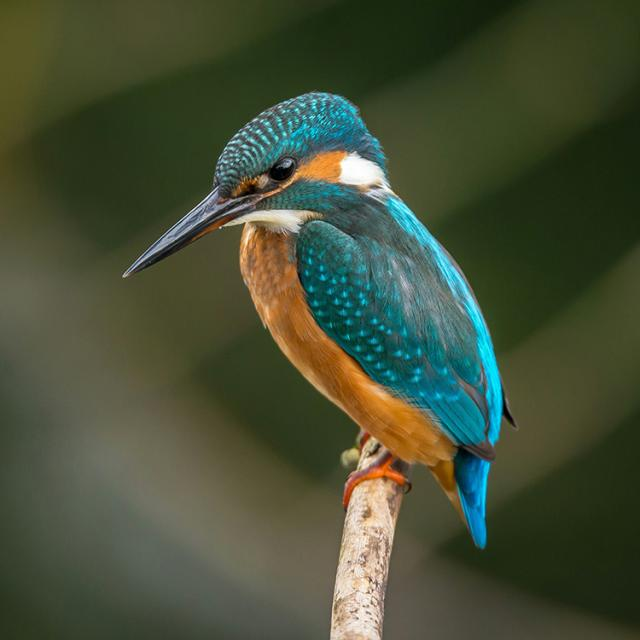kingfisher: (80, 80, 524, 570)
